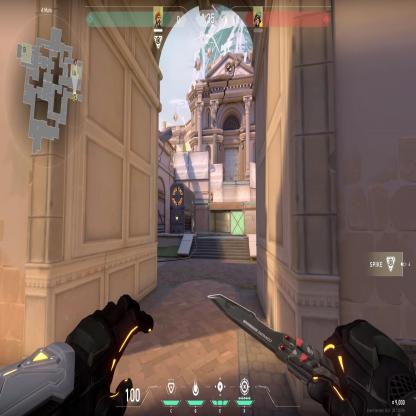enemy: (210, 190, 214, 203)
